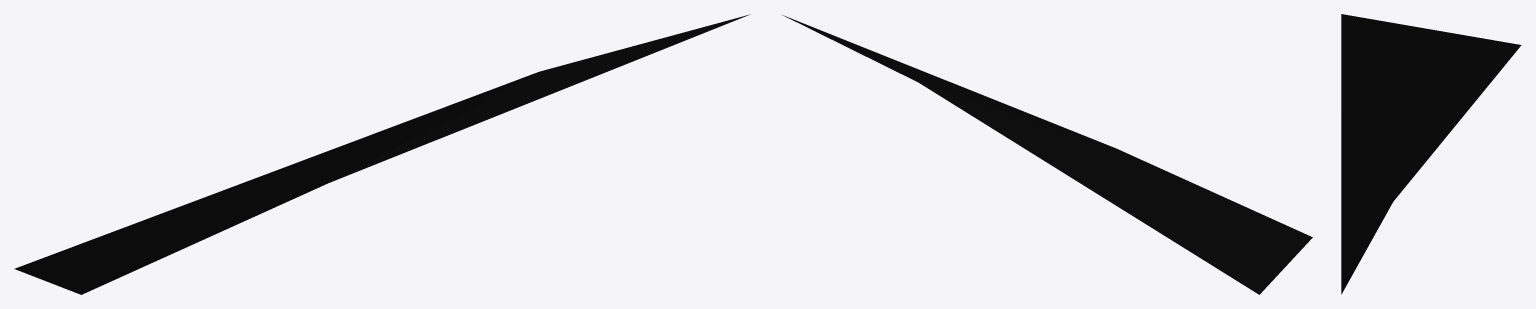
3 views of the same model, side by side, from view 1: azimuth 30°, elevation 25°; view 2: azimuth 150°, elevation 25°; view 3: azimuth 270°, elevation 25° (orthographic). The views are drawn at different scales.
Size of the model in its own units: 0.8213 by 0.1646 by 0.1428.
Materials: 1 (1 with a texture image).
